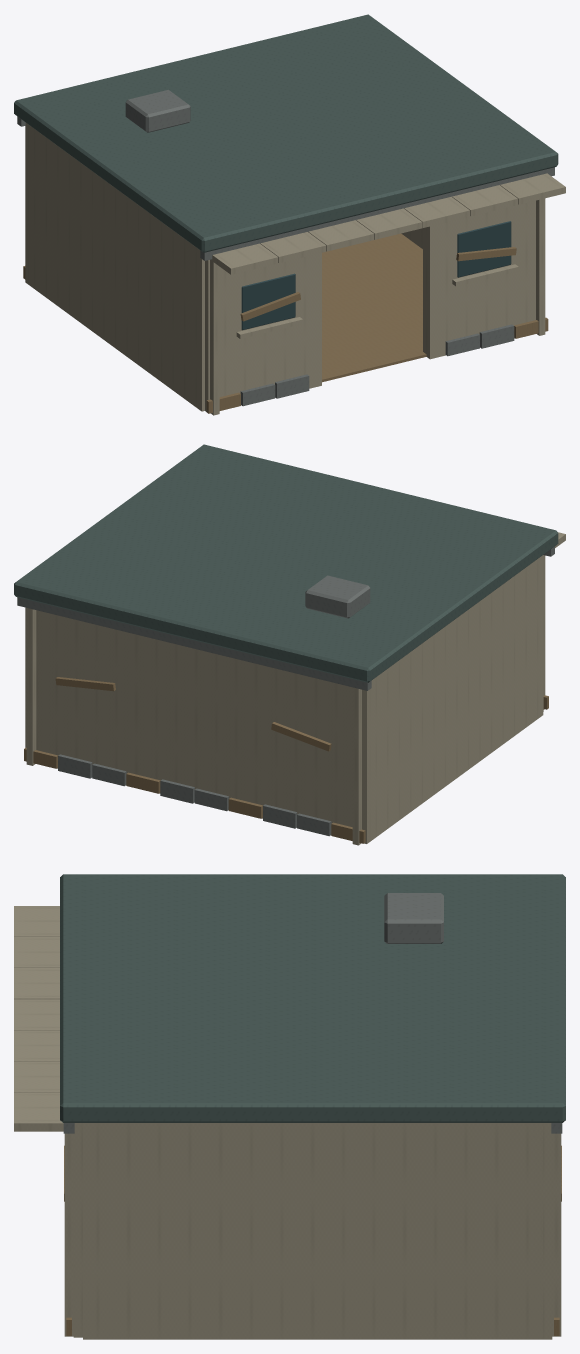
The model's file is building_shop.glb.
The picture shows the model from 3 angles, top to bottom: view 1: azimuth 30°, elevation 25°; view 2: azimuth 150°, elevation 25°; view 3: azimuth 270°, elevation 25°; orthographic projection. The views are drawn at different scales.
Parts seen in each view (by area): view 1: DD_Hide_Roof, DD_Keep_West, DD_Keep_Floor, DD_Hide_Front_1, DD_Hide_Front_-1, DD_Cut_Front_1, DD_Cut_Front_-1, DD_Hide_RoofVent, DD_Hide_Window_1, DD_Hide_Window_-1, DD_Hide_FrontFascia, DD_Hide_FrontCorner (+17 smaller); view 2: DD_Hide_Roof, DD_Keep_Back, DD_Keep_West, DD_Hide_BackFascia, DD_Hide_RoofVent, DD_Hide_BackCorner.001, DD_Hide_BackCorner, DD_Hide_BackPlinth.008, DD_Hide_BackPlinth.005, DD_Hide_BackPlinth.002, DD_Hide_BackWindowRepair, DD_Hide_BackPlinth.001 (+5 smaller); view 3: DD_Hide_Roof, DD_Hide_East, DD_Cut_East, DD_Keep_Back, DD_Hide_RoofVent, DD_Hide_BackCorner.001, DD_Hide_FrontCorner.001, DD_Hide_Awning_6, DD_Hide_Front_1, DD_Hide_Awning_2, DD_Hide_Awning_3, DD_Hide_Awning_4 (+4 smaller).
Part boxes in pixels (box(x1,y1,x2,y2)): DD_Hide_Roof: box(14, 14, 558, 252); DD_Keep_West: box(29, 125, 204, 411); DD_Keep_Floor: box(322, 233, 426, 382); DD_Hide_Front_1: box(423, 200, 535, 359); DD_Hide_Front_-1: box(205, 253, 321, 405); DD_Cut_Front_1: box(423, 284, 535, 358); DD_Cut_Front_-1: box(205, 337, 321, 411); DD_Hide_RoofVent: box(125, 89, 190, 132); DD_Hide_Window_1: box(457, 221, 511, 277); DD_Hide_Window_-1: box(241, 273, 295, 330); DD_Hide_FrontFascia: box(200, 167, 554, 260); DD_Hide_FrontCorner: box(210, 260, 219, 415); DD_Hide_Roof: box(14, 444, 558, 682); DD_Keep_Back: box(25, 607, 373, 843); DD_Keep_West: box(370, 555, 543, 841); DD_Hide_BackFascia: box(17, 597, 371, 690); DD_Hide_RoofVent: box(305, 575, 370, 618); DD_Hide_BackCorner.001: box(26, 608, 36, 765); DD_Hide_BackCorner: box(352, 687, 361, 845); DD_Hide_BackPlinth.008: box(58, 754, 92, 778); DD_Hide_BackPlinth.005: box(160, 779, 194, 803); DD_Hide_BackPlinth.002: box(263, 804, 297, 828); DD_Hide_BackWindowRepair: box(271, 722, 331, 751); DD_Hide_BackPlinth.001: box(297, 813, 331, 836); DD_Hide_Roof: box(60, 874, 565, 1122); DD_Hide_East: box(83, 1123, 542, 1339); DD_Cut_East: box(83, 1274, 542, 1339); DD_Keep_Back: box(533, 1123, 552, 1339); DD_Hide_RoofVent: box(384, 893, 443, 943); DD_Hide_BackCorner.001: box(552, 1133, 561, 1336); DD_Hide_FrontCorner.001: box(64, 1133, 73, 1336); DD_Hide_Awning_6: box(14, 1092, 63, 1131); DD_Hide_Front_1: box(73, 1123, 82, 1337); DD_Hide_Awning_2: box(14, 968, 59, 999); DD_Hide_Awning_3: box(14, 999, 59, 1030); DD_Hide_Awning_4: box(14, 1030, 59, 1061).
Bounding box in the file's own units: 5.95 × 3.17 × 6.
6 materials, 5 textured.
